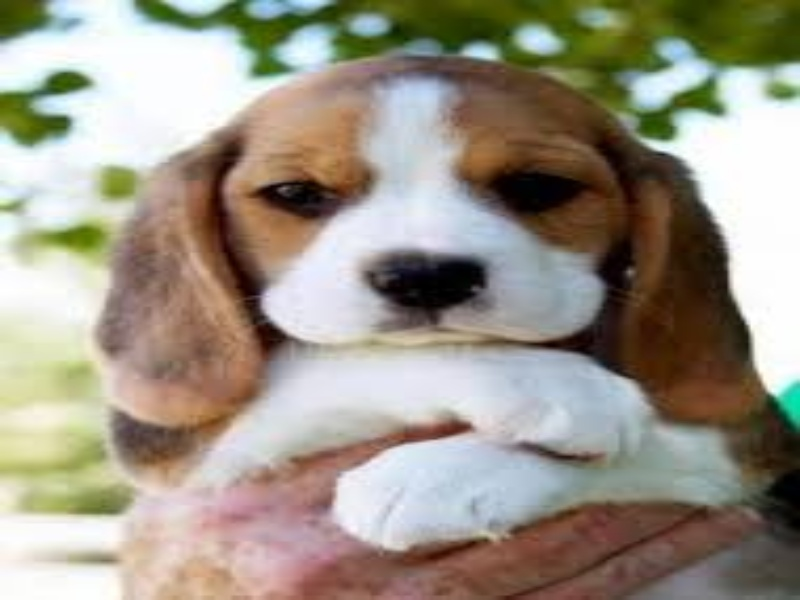dog: (63, 32, 773, 542)
